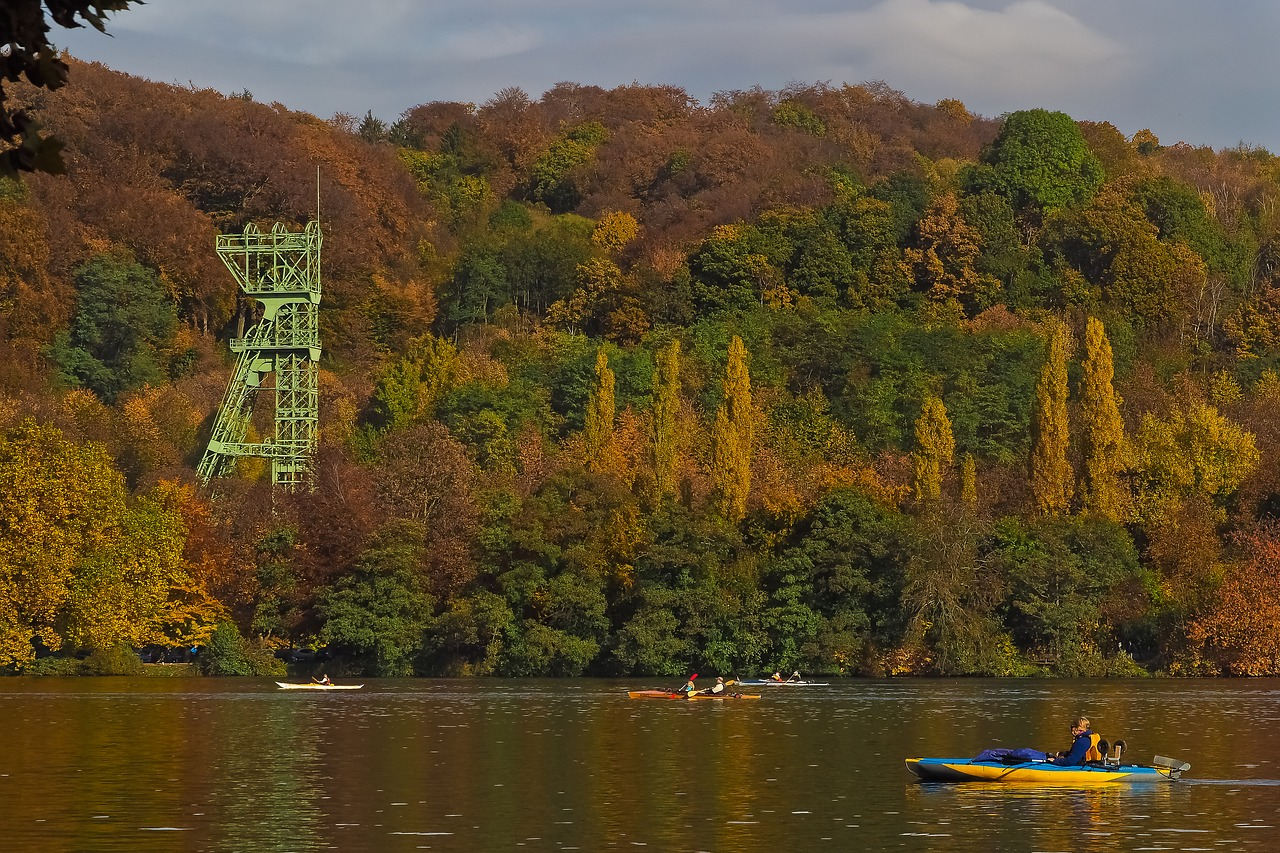kayak: (899, 754, 1197, 786), (619, 688, 766, 701), (735, 677, 836, 689), (270, 681, 368, 691)
